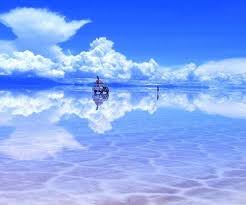sea: (5, 96, 245, 205)
sky: (1, 2, 245, 94)
